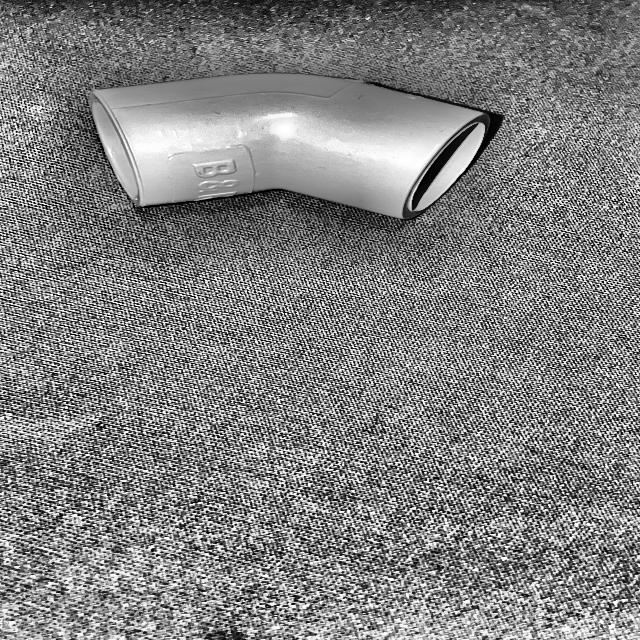ELBOW45: (90, 75, 503, 221)
